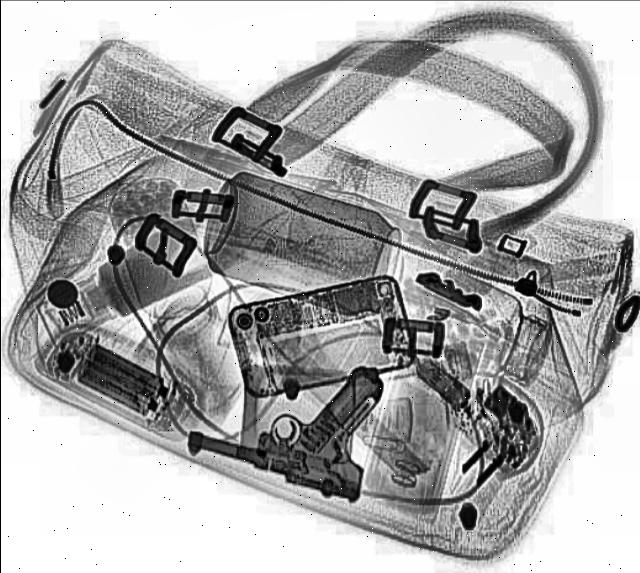Gun: (176, 330, 404, 506)
